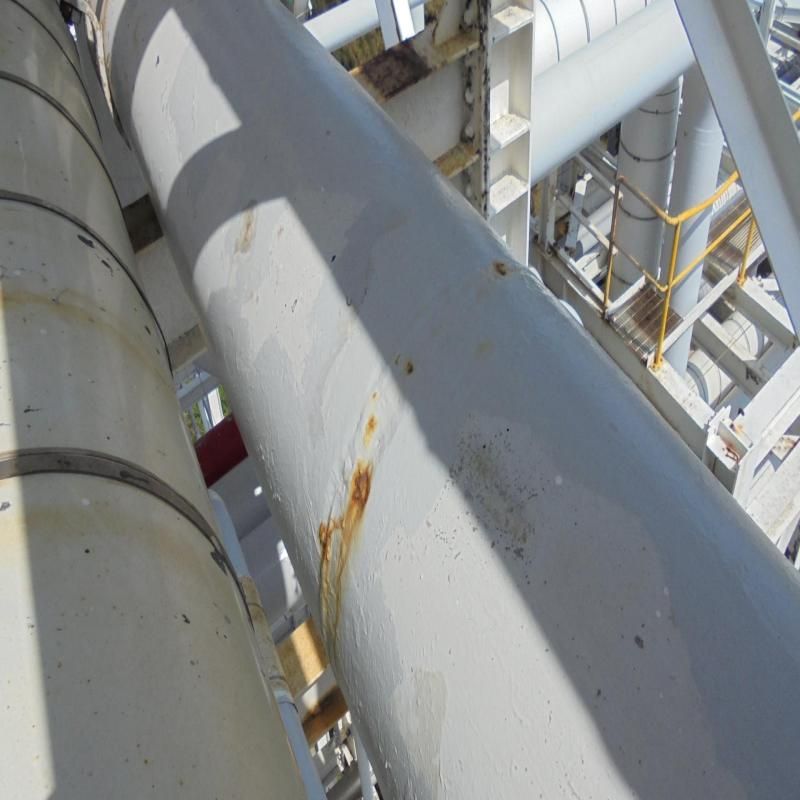corrosion: (347, 474, 371, 516)
